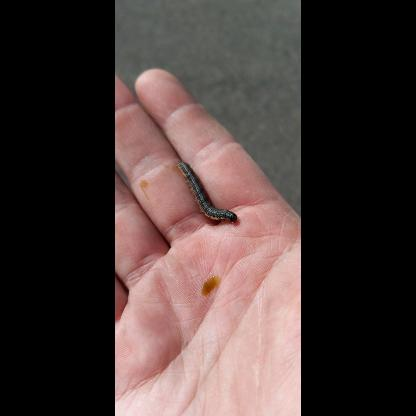Fall Armyworm Larvae: (175, 160, 241, 226)
